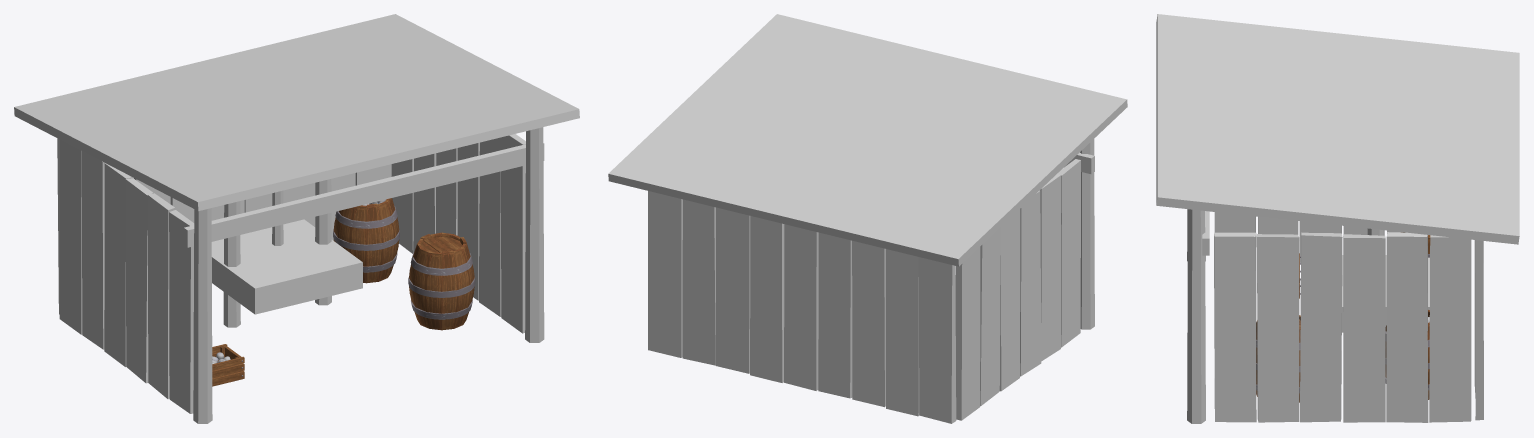
The model's file is fx_cider_press.gltf.
3 renders of one model, left to right at view 1: azimuth 30°, elevation 25°; view 2: azimuth 150°, elevation 25°; view 3: azimuth 270°, elevation 25°, orthographic. The views are drawn at different scales.
Parts seen in each view (by area): view 1: T1_Roof025, T1_Roof028, T1_Roof026, T1_Roof027, T1_PressBed029, T1_Lintel024, T1_KitBarrel036, T1_Plank012, T1_Plank014, T1_Plank013, T1_Plank016, T1_Plank018 (+13 smaller); view 2: T1_Roof028, T1_Roof025, T1_Roof027, T1_Roof026, T1_Plank003, T1_Plank011, T1_Plank007, T1_Plank008, T1_Plank006, T1_Plank009, T1_Plank005, T1_Plank010 (+8 smaller); view 3: T1_Roof028, T1_Roof026, T1_Roof025, T1_Roof027, T1_Plank018, T1_Plank019, T1_Plank021, T1_Plank022, T1_Plank020, T1_Plank023, T1_Post002, T1_Plank011 (+4 smaller).
Boxes of the visible parts, bbox=[...] form: T1_Roof025: bbox=[150, 85, 579, 210]; T1_Roof028: bbox=[14, 14, 442, 140]; T1_Roof026: bbox=[105, 62, 533, 186]; T1_Roof027: bbox=[59, 38, 487, 162]; T1_PressBed029: bbox=[211, 219, 362, 314]; T1_Lintel024: bbox=[183, 143, 544, 247]; T1_KitBarrel036: bbox=[408, 232, 475, 330]; T1_Plank012: bbox=[169, 210, 194, 413]; T1_Plank014: bbox=[125, 178, 153, 383]; T1_Plank013: bbox=[147, 193, 175, 399]; T1_Plank016: bbox=[81, 151, 104, 349]; T1_Plank018: bbox=[500, 134, 525, 333]; T1_Roof028: bbox=[608, 132, 1002, 266]; T1_Roof025: bbox=[735, 14, 1127, 147]; T1_Roof027: bbox=[652, 93, 1043, 225]; T1_Roof026: bbox=[694, 53, 1085, 185]; T1_Plank003: bbox=[918, 257, 956, 423]; T1_Plank011: bbox=[648, 191, 682, 357]; T1_Plank007: bbox=[784, 224, 818, 390]; T1_Plank008: bbox=[750, 216, 784, 382]; T1_Plank006: bbox=[818, 232, 852, 398]; T1_Plank009: bbox=[716, 207, 750, 373]; T1_Plank005: bbox=[852, 240, 885, 407]; T1_Plank010: bbox=[682, 199, 715, 365]; T1_Roof028: bbox=[1426, 43, 1519, 244]; T1_Roof026: bbox=[1246, 23, 1340, 225]; T1_Roof025: bbox=[1156, 14, 1250, 215]; T1_Roof027: bbox=[1335, 33, 1429, 234]; T1_Plank018: bbox=[1214, 232, 1256, 422]; T1_Plank019: bbox=[1256, 234, 1299, 422]; T1_Plank021: bbox=[1343, 234, 1385, 422]; T1_Plank022: bbox=[1386, 232, 1428, 422]; T1_Plank020: bbox=[1300, 232, 1342, 422]; T1_Plank023: bbox=[1429, 235, 1471, 422]; T1_Post002: bbox=[1187, 209, 1205, 423]; T1_Plank011: bbox=[1475, 240, 1483, 420].
Size of the model in its own units: 4.6 by 2.77 by 3.85.
8 materials, 8 textured.
